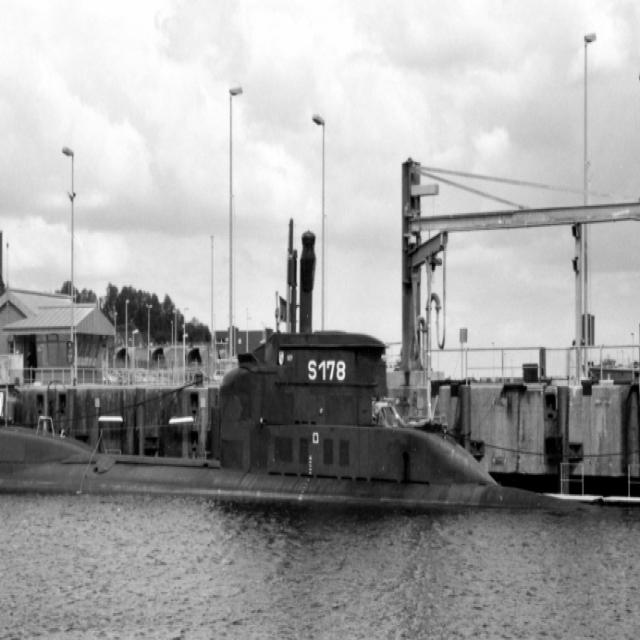submarine: (1, 214, 602, 509)
